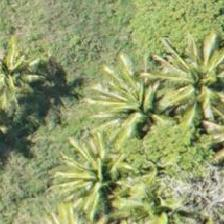coconut_tree: (89, 60, 179, 150), (166, 28, 223, 118), (0, 27, 56, 117)
